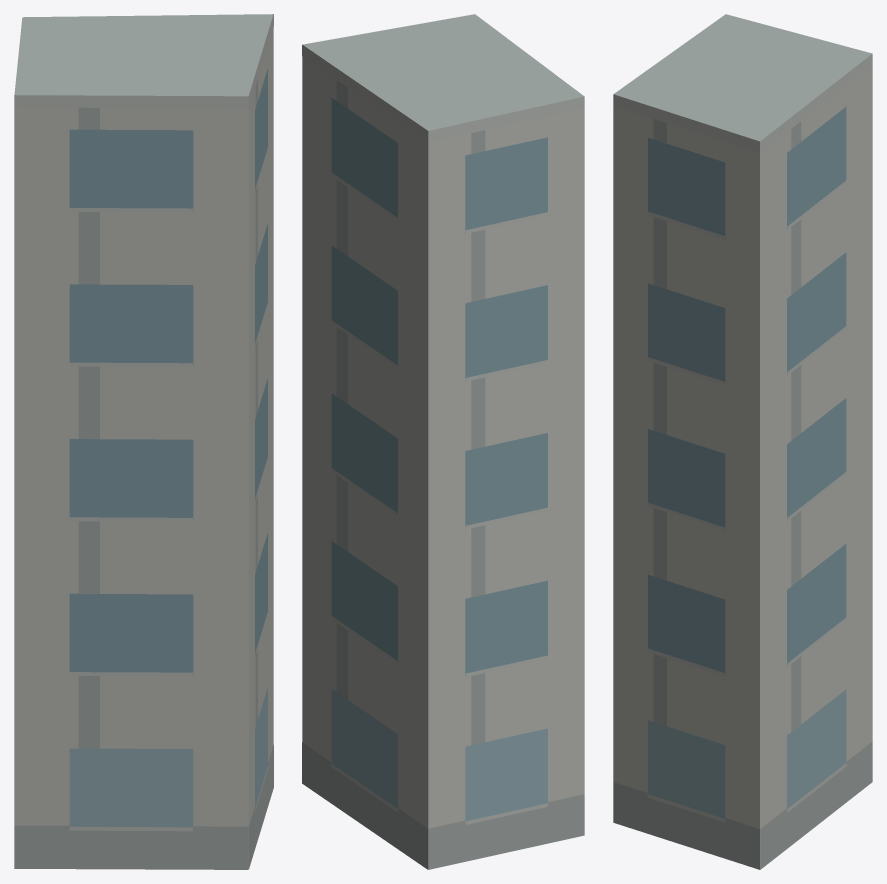
Rendered from survey-upis-32479734.glb.
3 views of the same model, side by side, from view 1: azimuth 30°, elevation 25°; view 2: azimuth 150°, elevation 25°; view 3: azimuth 270°, elevation 25° (orthographic). The views are drawn at different scales.
Parts seen in each view (by area): view 1: survey-upis-32479734.tmp; view 2: survey-upis-32479734.tmp; view 3: survey-upis-32479734.tmp.
Part boxes in pixels (bbox=[...]): survey-upis-32479734.tmp: bbox=[14, 14, 273, 869]; survey-upis-32479734.tmp: bbox=[302, 14, 584, 869]; survey-upis-32479734.tmp: bbox=[613, 14, 872, 869].
Bounding box in the file's own units: 5.73 × 15.25 × 4.93.
